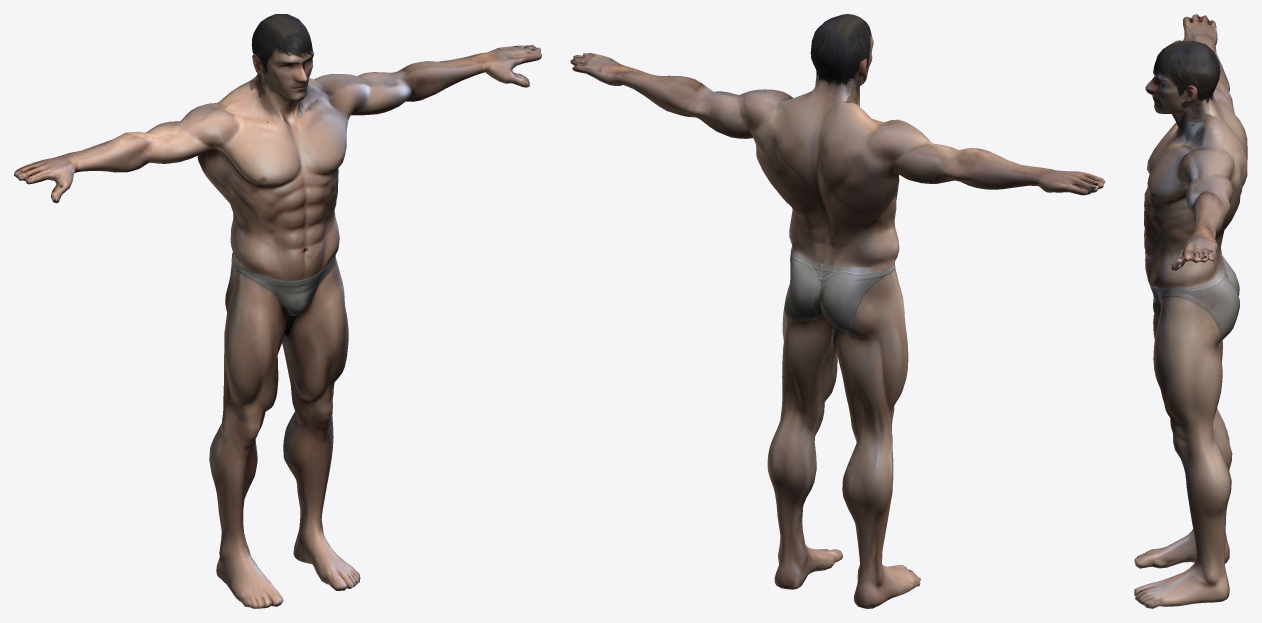
The model's file is humanmale2.glb.
The picture shows the model from 3 angles, left to right: view 1: azimuth 30°, elevation 25°; view 2: azimuth 150°, elevation 25°; view 3: azimuth 270°, elevation 25°; orthographic projection. The views are drawn at different scales.
Bounding box in the file's own units: 1.96 × 2.01 × 0.3821.
Materials: 1 (1 with a texture image).
